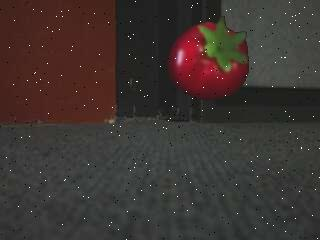Tomato: (167, 17, 249, 102)
